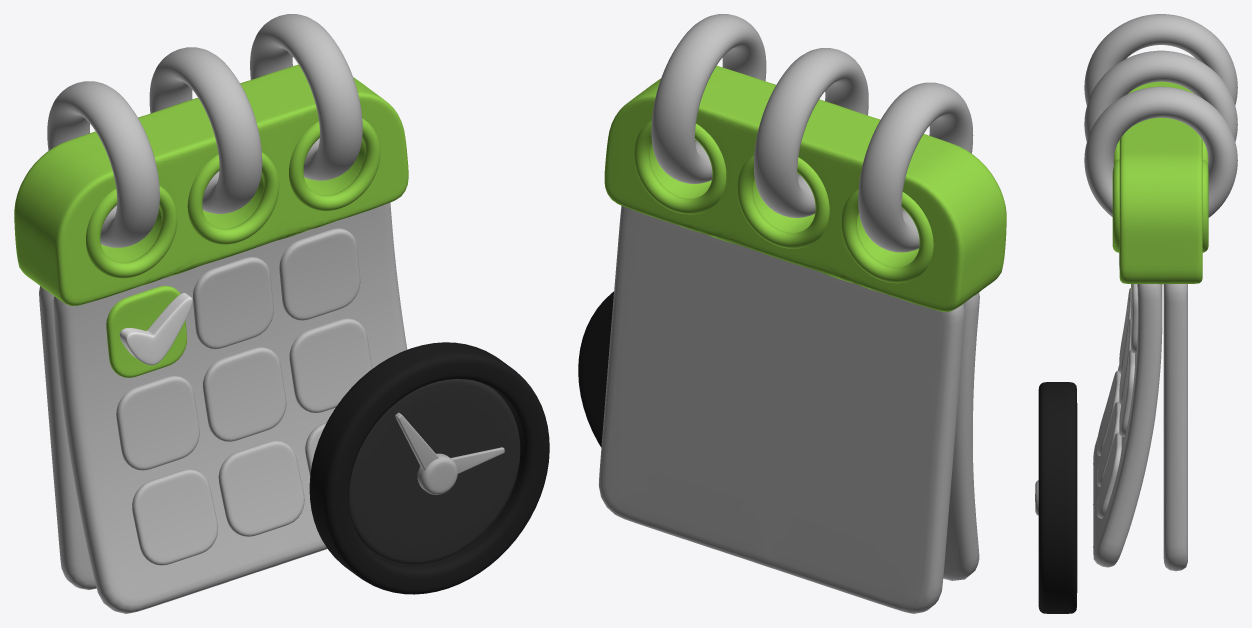
Rendered from booking-animated-3d-icon-1711007852576.glb.
3 renders of one model, left to right at view 1: azimuth 30°, elevation 25°; view 2: azimuth 150°, elevation 25°; view 3: azimuth 270°, elevation 25°, orthographic. The views are drawn at different scales.
Visible parts, largest first — view 1: Calendar 1, Header, Rings 2, Base 2.001, Base 1.001, Rings 1, Calendar 2, Checkmark, Center, Big Hand; view 2: Calendar 2, Header, Rings 2, Rings 1, Calendar 1, Base 2.001; view 3: Rings 2, Header, Calendar 1, Base 2.001, Calendar 2, Rings 1.
Boxes of the visible parts, x1,y1,x2,y2 form: Calendar 1: (53,203,407,613); Header: (14,64,408,305); Rings 2: (47,14,362,247); Base 2.001: (309,342,549,594); Base 1.001: (349,379,520,564); Rings 1: (86,118,380,278); Calendar 2: (39,286,96,589); Checkmark: (119,293,192,365); Center: (417,453,457,494); Big Hand: (395,412,438,470); Calendar 2: (598,205,964,613); Header: (604,65,1006,311); Rings 2: (651,14,973,252); Rings 1: (634,120,933,283); Calendar 1: (943,292,979,580); Base 2.001: (578,291,613,447); Rings 2: (1084,14,1237,217); Header: (1119,81,1202,284); Calendar 1: (1093,284,1162,567); Base 2.001: (1038,382,1077,613); Calendar 2: (1163,284,1187,571); Rings 1: (1112,140,1208,252).
Bounding box in the file's own units: 2.56 × 2.95 × 1.12.
